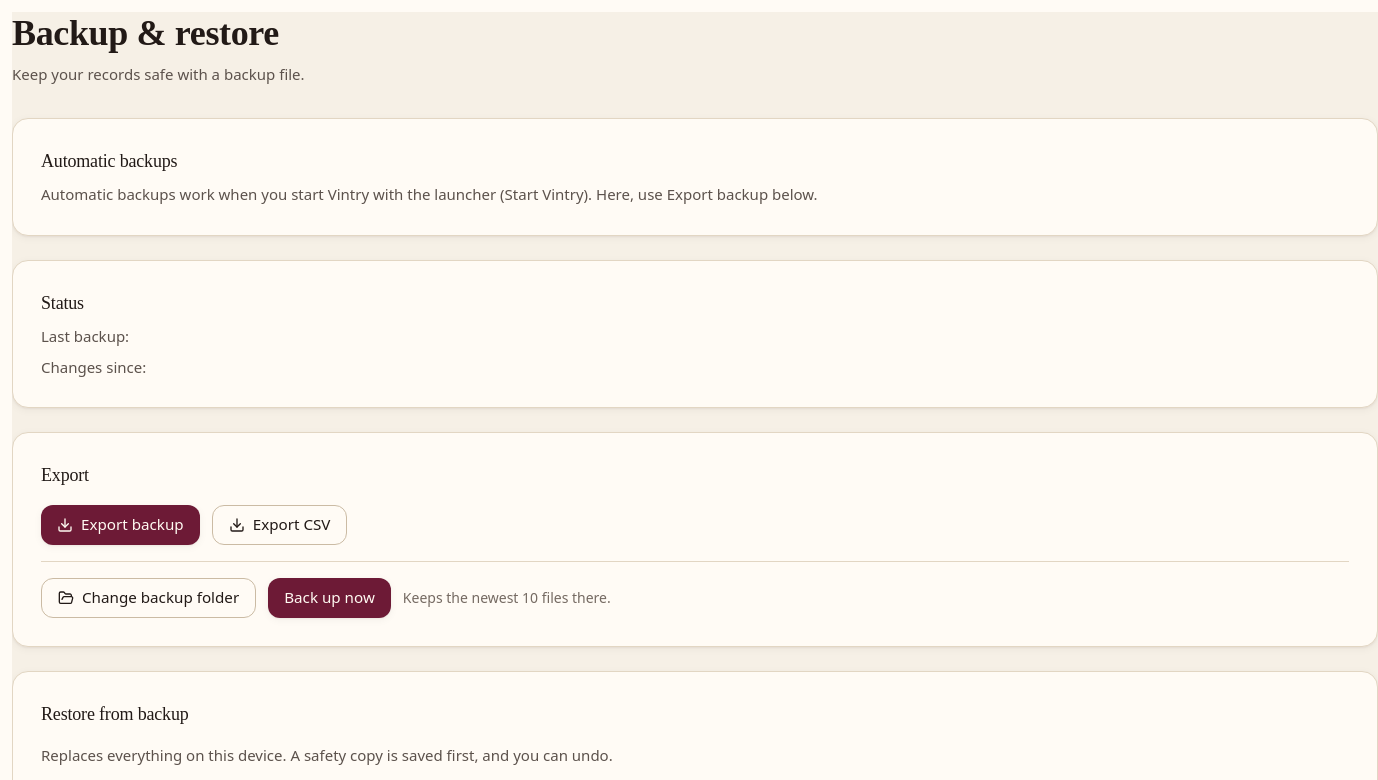
BackupPage › exports a backup, downloads it, and marks the backup done
The image size is (1378, 780).
Click the button "Export backup".
click(120, 525)  # box [41, 505, 200, 545]
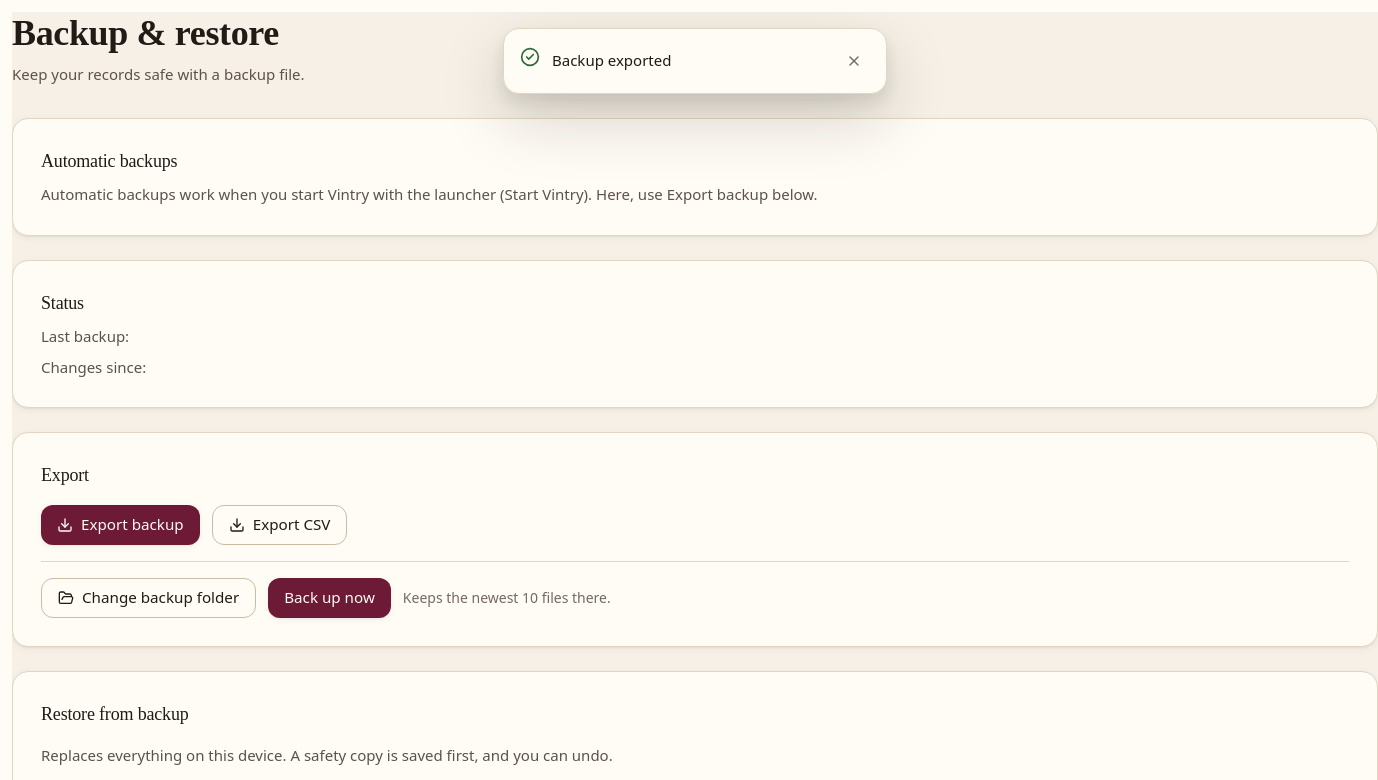
Now the text "Backup exported" is shown, box [552, 50, 672, 70]
